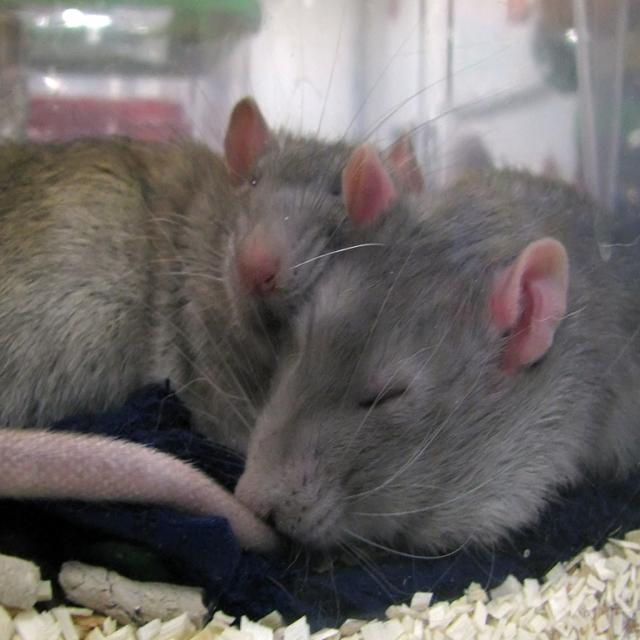rat: (0, 92, 547, 428), (232, 142, 640, 560)
